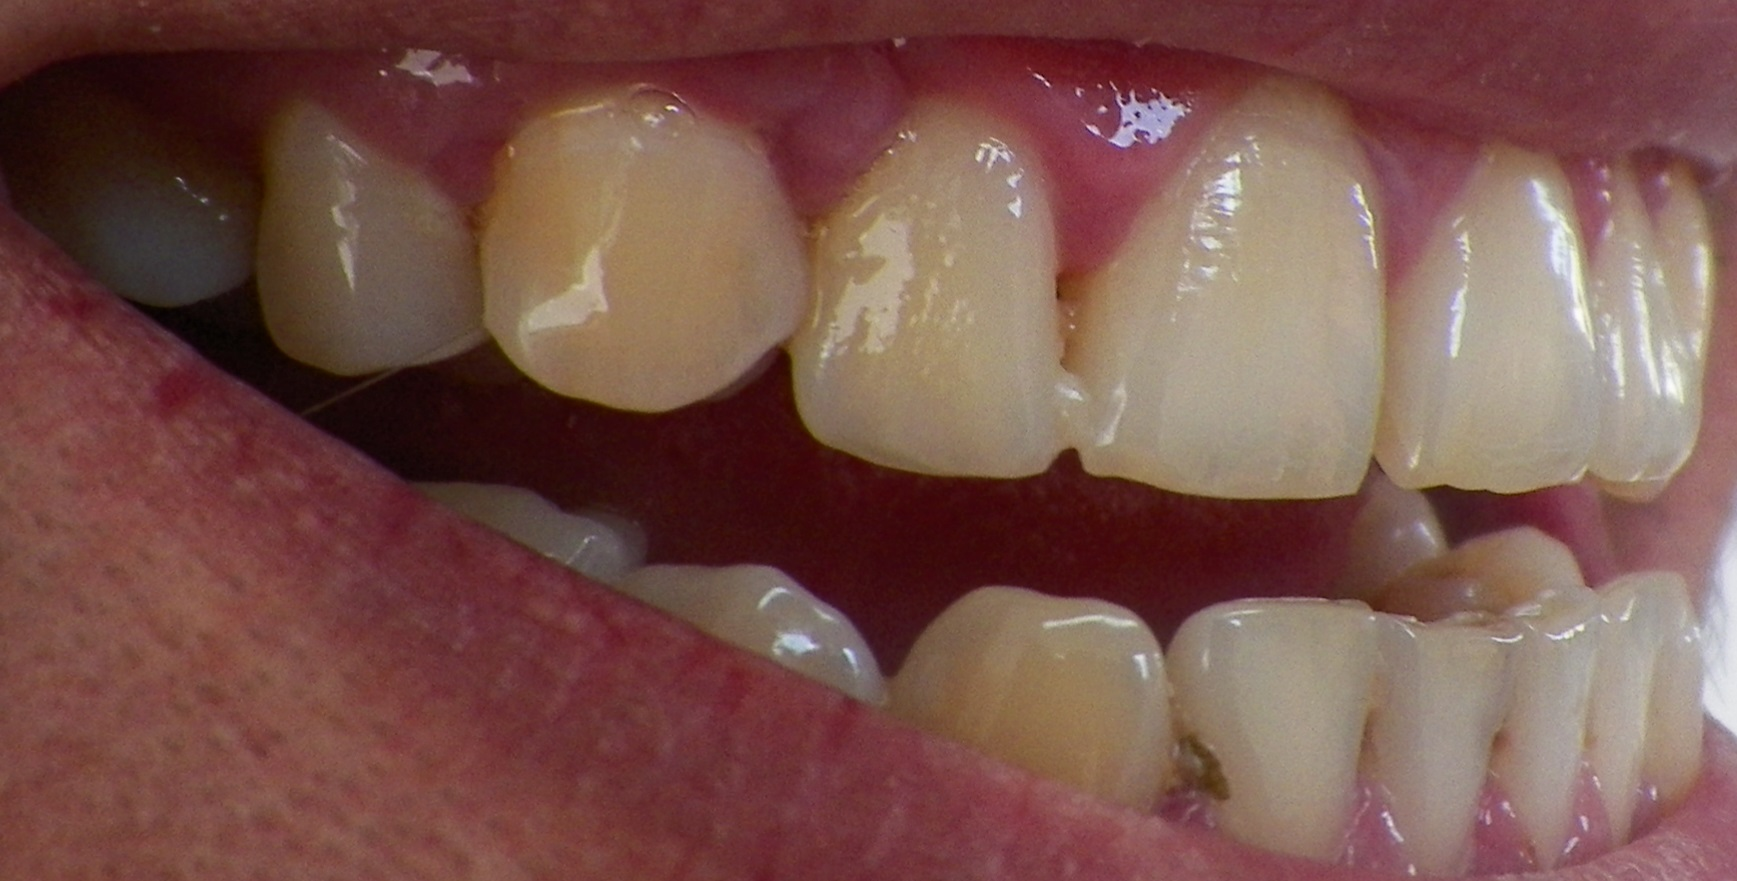boca: (39, 75, 1701, 848)
